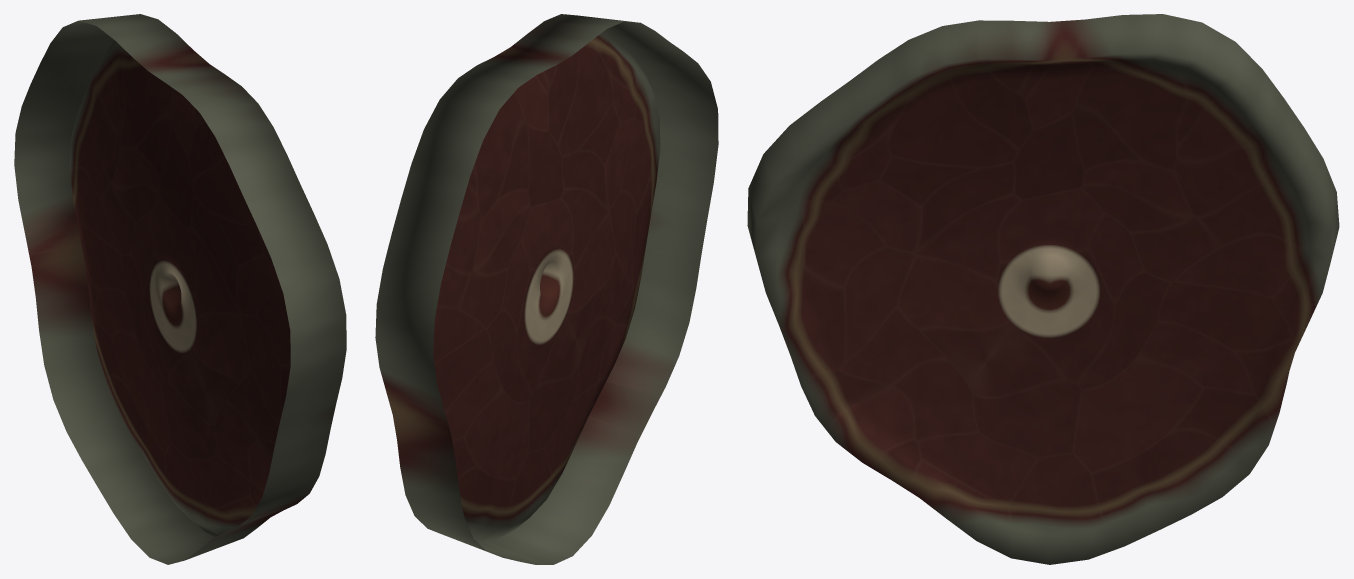
File: SM_WoundCap_UpperArm_337.fbx
3 renders of one model, left to right at view 1: azimuth 30°, elevation 25°; view 2: azimuth 150°, elevation 25°; view 3: azimuth 270°, elevation 25°, orthographic. The views are drawn at different scales.
Visible parts, largest first — view 1: SM_WoundCap_UpperArm_337; view 2: SM_WoundCap_UpperArm_337; view 3: SM_WoundCap_UpperArm_337.
Boxes of the visible parts, box(x1,y1,x2,y2) form: SM_WoundCap_UpperArm_337: box(14, 14, 346, 564); SM_WoundCap_UpperArm_337: box(375, 14, 718, 564); SM_WoundCap_UpperArm_337: box(747, 14, 1339, 564).
Bounding box in the file's own units: 0.016 × 0.1276 × 0.1255.
Materials: 1 (1 with a texture image).
